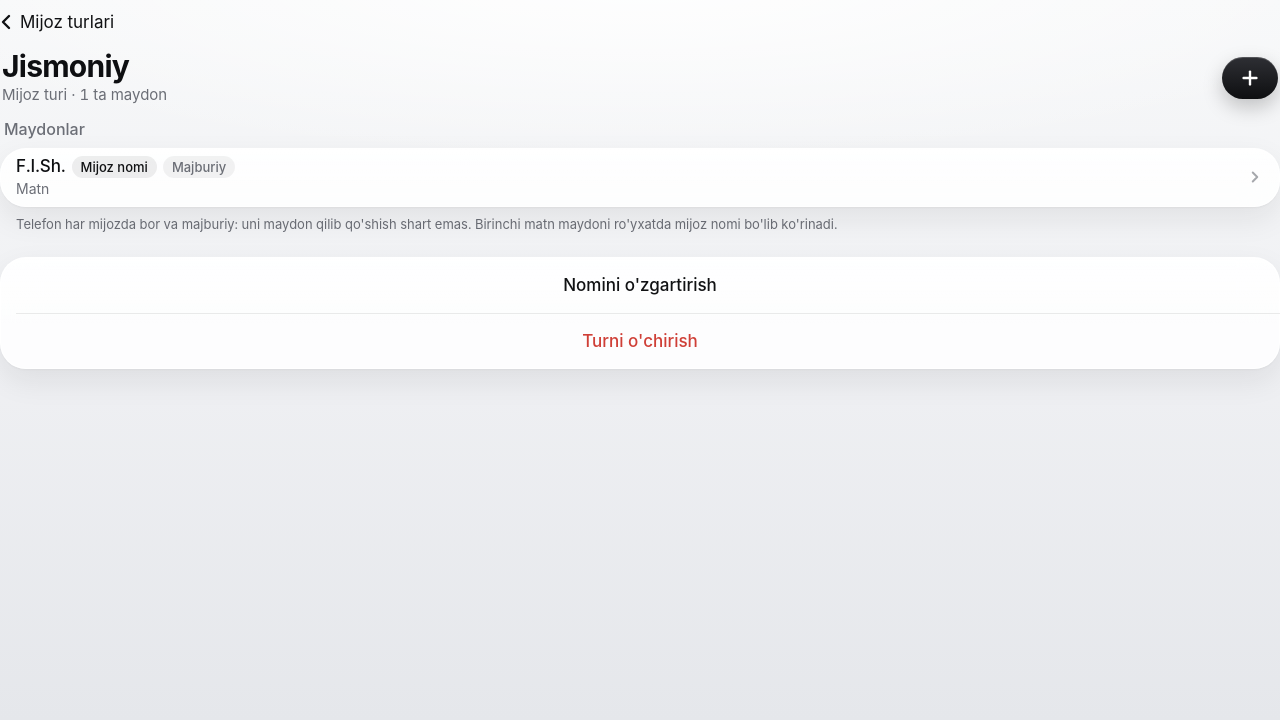
it: with no dropdown yet, a choice field says where to make one
The image size is (1280, 720).
Click the button named "Maydon qo'shish".
click(1250, 78)  # box left=1222, top=57, right=1278, bottom=99
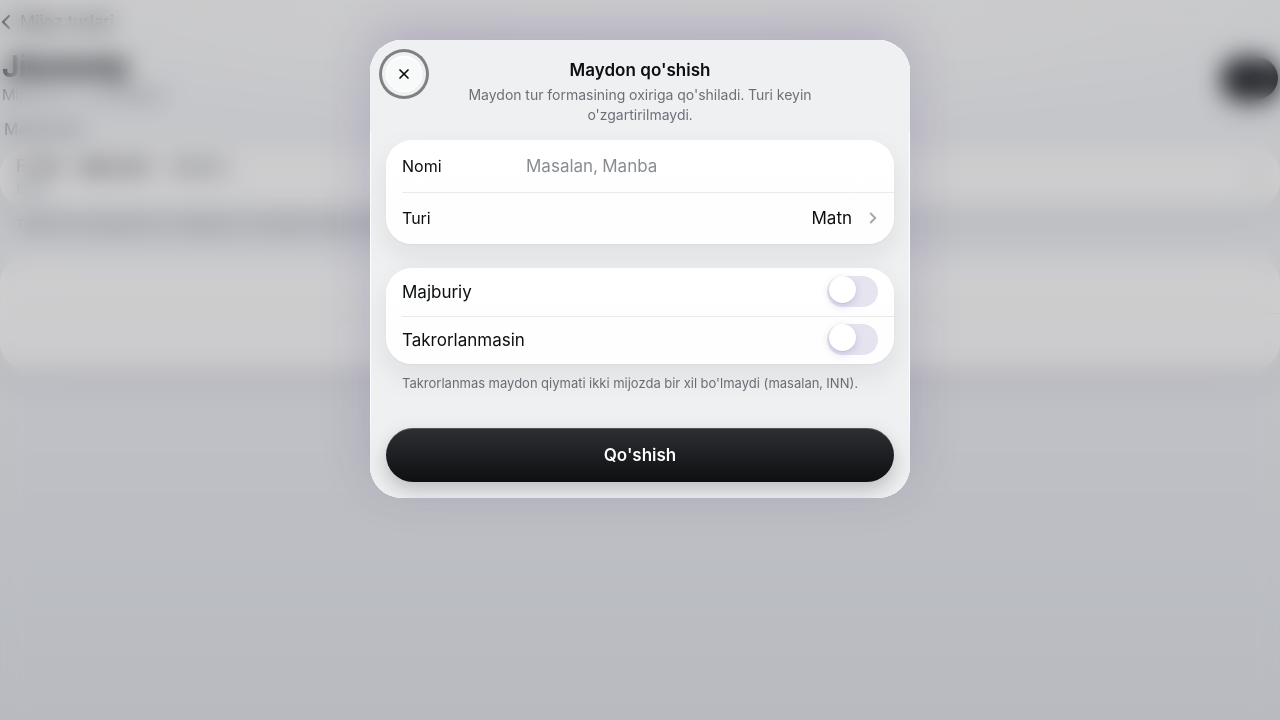
Click the button labelled "Turi Matn".
click(832, 218)  # box left=386, top=192, right=894, bottom=244
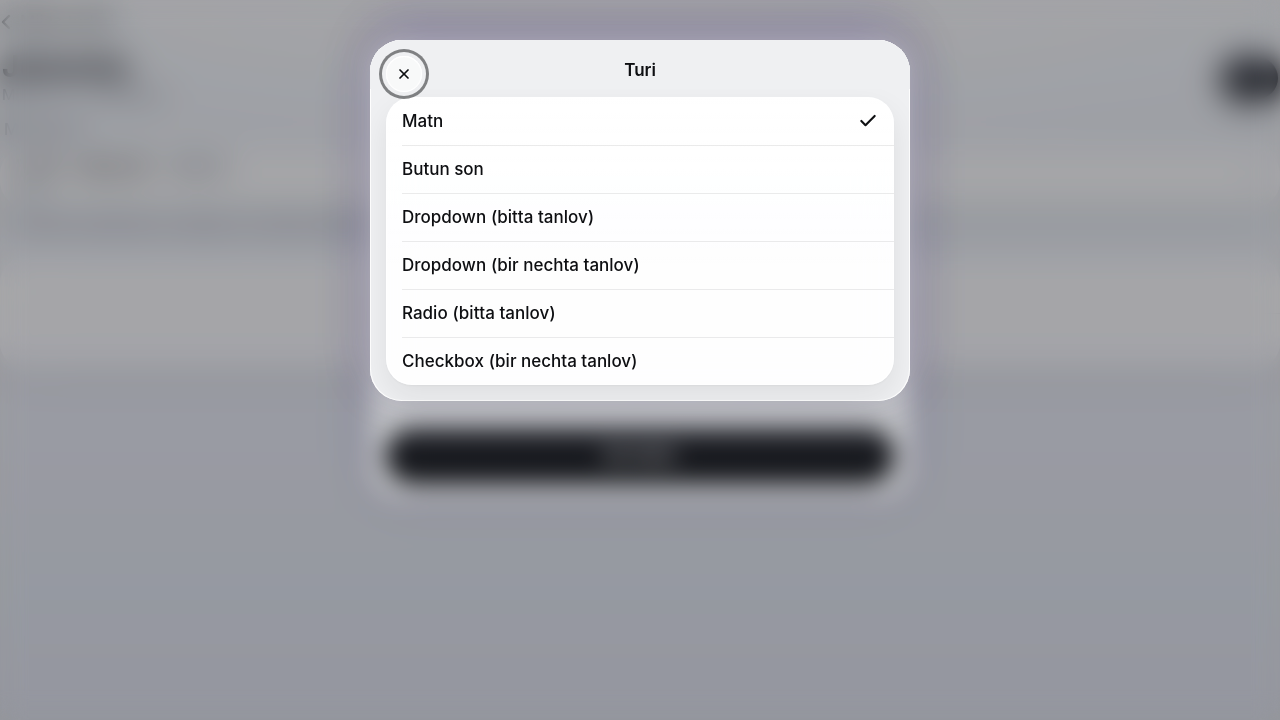
Click the option "Radio (bitta tanlov)".
click(479, 313)  # box left=402, top=303, right=556, bottom=323
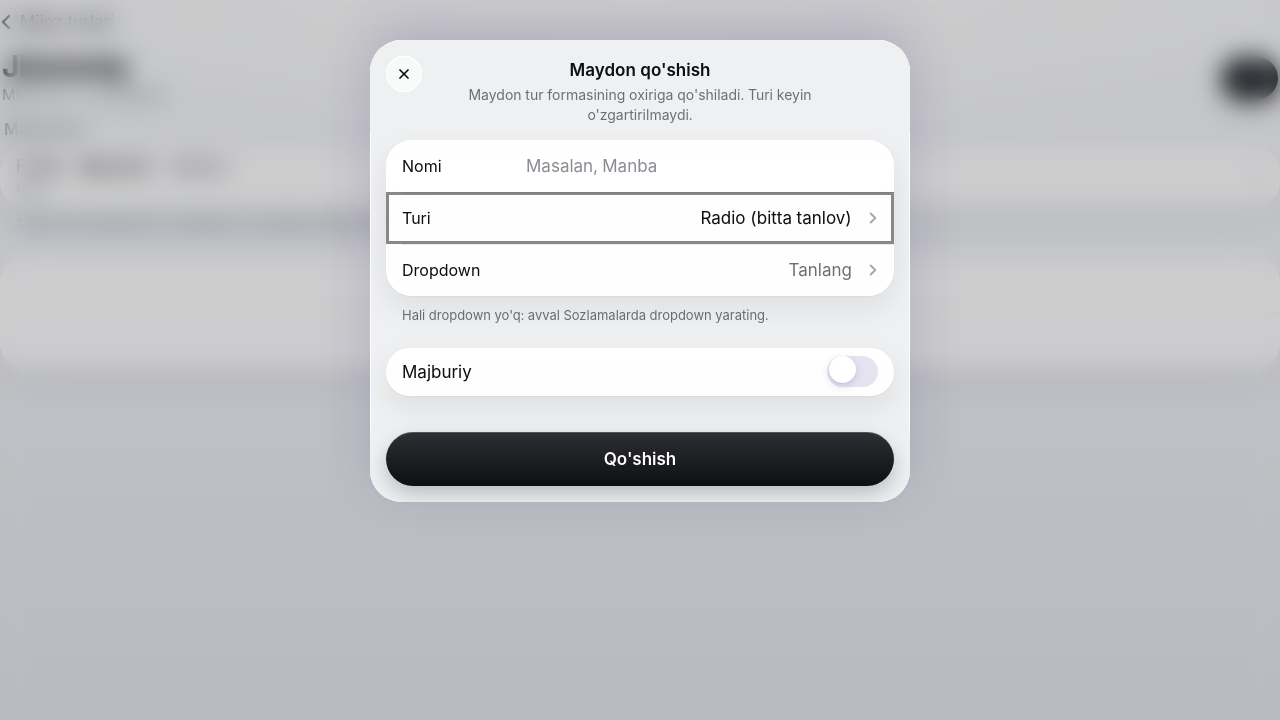
Result: the text "Hali dropdown yo'q: avval Sozlamalarda dropdown yarating." is shown at left=402, top=307, right=768, bottom=323
